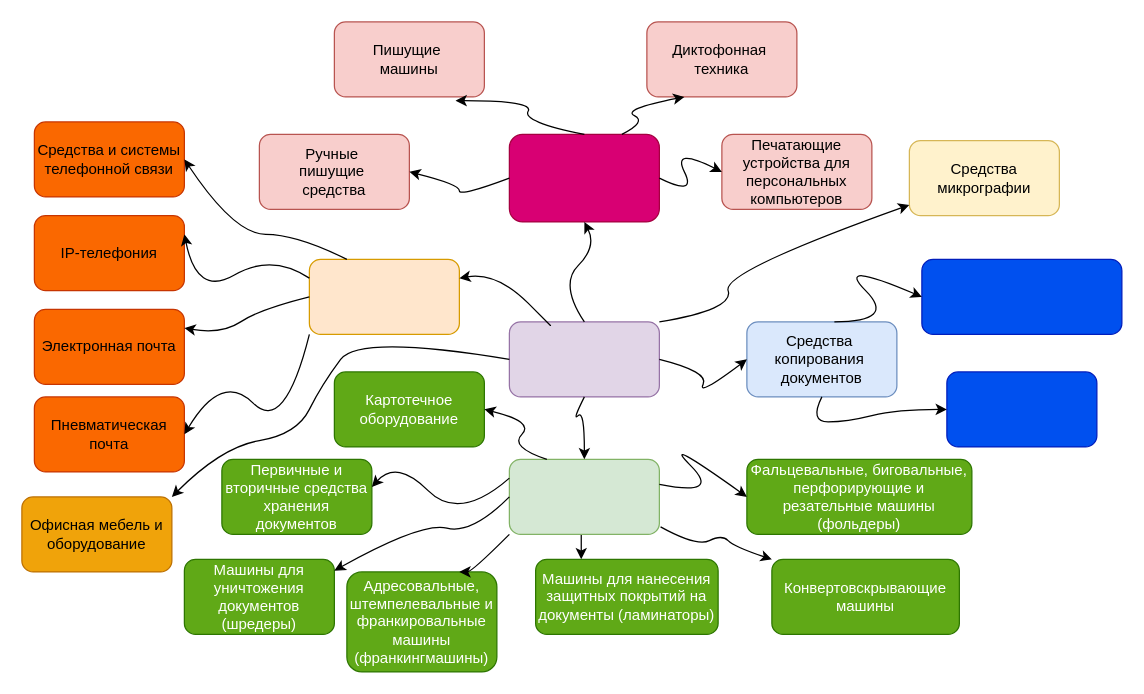
This 1144x694 diagram has some shape labels left out. Here are the shapes that lost their labels. From the top down, the centre of each, then its label:
point 583,177: Средства подготовки текстовых и табличных документов
point 383,296: Средства коммуникационной техники
point 1021,296: Средства электрофотографического копирования
point 583,359: Средства организационной техники
point 1021,409: Средства ризографии
point 583,496: Средства обработки и хранения документов в офисе
